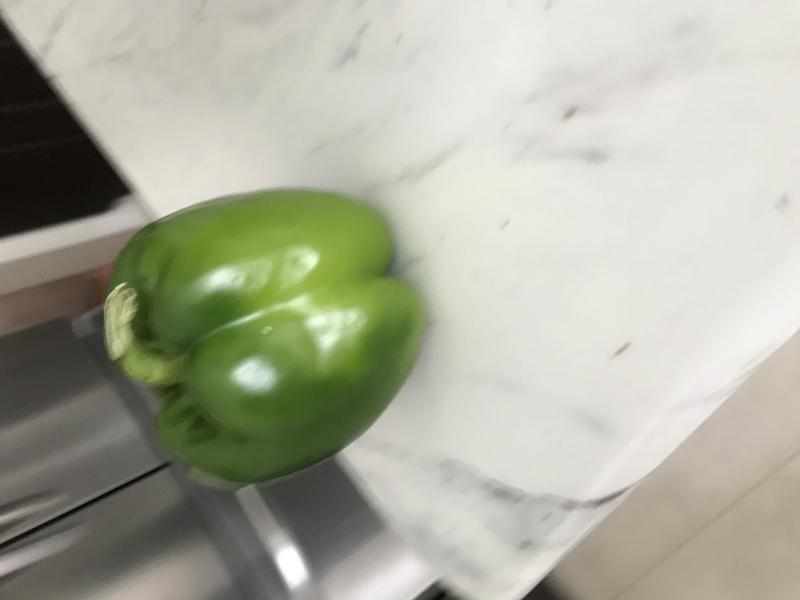green_pepper: (76, 171, 450, 488)
